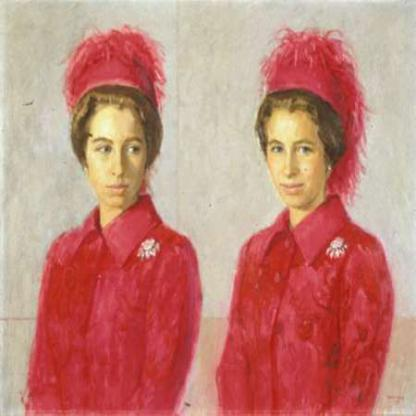face: (88, 86, 152, 210), (266, 86, 330, 210)
